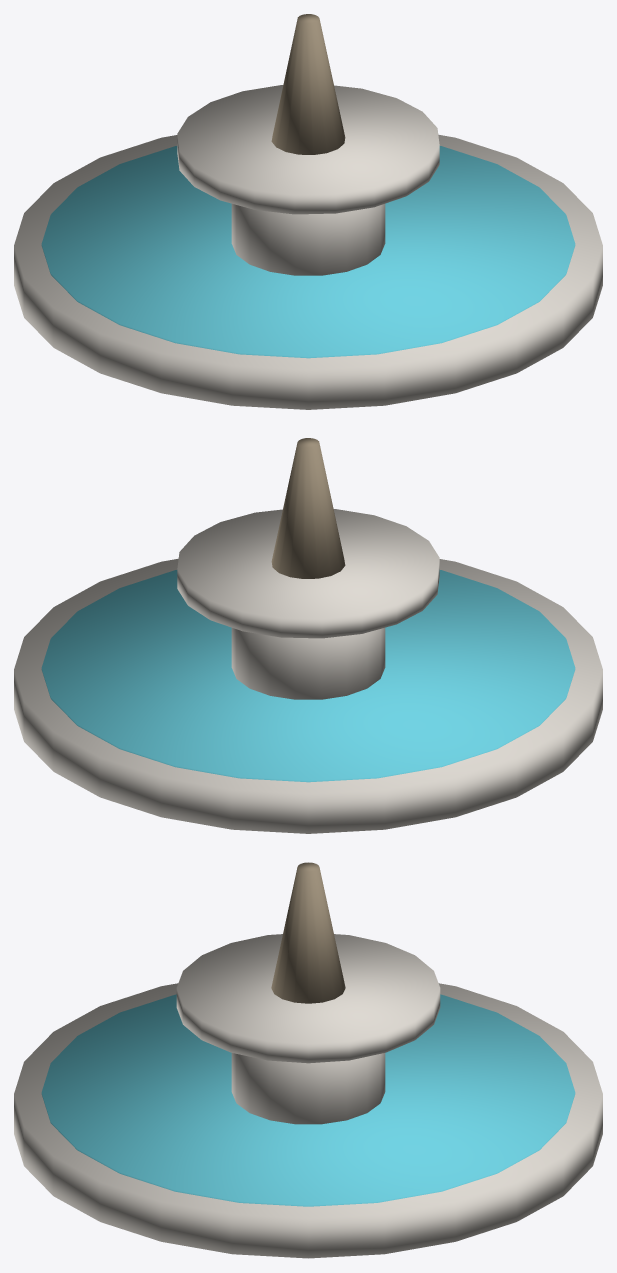
File: Plaza_Fountain.fbx
3 views of the same model, one above another, from view 1: azimuth 30°, elevation 25°; view 2: azimuth 150°, elevation 25°; view 3: azimuth 270°, elevation 25° (orthographic).
Visible parts, largest first — view 1: Cylinder.001, Cylinder, Cylinder.003, Cylinder.002, Cone; view 2: Cylinder.001, Cylinder, Cylinder.003, Cylinder.002, Cone; view 3: Cylinder.001, Cylinder, Cylinder.003, Cylinder.002, Cone.
Part boxes in pixels (x1=…): Cylinder.001: x1=41, y1=146, x2=575, y2=358; Cylinder: x1=14, y1=134, x2=602, y2=409; Cylinder.003: x1=177, y1=85, x2=439, y2=214; Cylinder.002: x1=231, y1=203, x2=385, y2=275; Cone: x1=271, y1=14, x2=345, y2=154; Cylinder.001: x1=41, y1=570, x2=575, y2=782; Cylinder: x1=14, y1=558, x2=602, y2=833; Cylinder.003: x1=177, y1=509, x2=439, y2=638; Cylinder.002: x1=231, y1=627, x2=385, y2=699; Cone: x1=271, y1=438, x2=345, y2=578; Cylinder.001: x1=41, y1=994, x2=575, y2=1206; Cylinder: x1=14, y1=983, x2=602, y2=1258; Cylinder.003: x1=176, y1=934, x2=440, y2=1063; Cylinder.002: x1=231, y1=1053, x2=385, y2=1124; Cone: x1=271, y1=862, x2=345, y2=1003.
Size of the model in its own units: 9.6 by 4.8 by 9.6.
